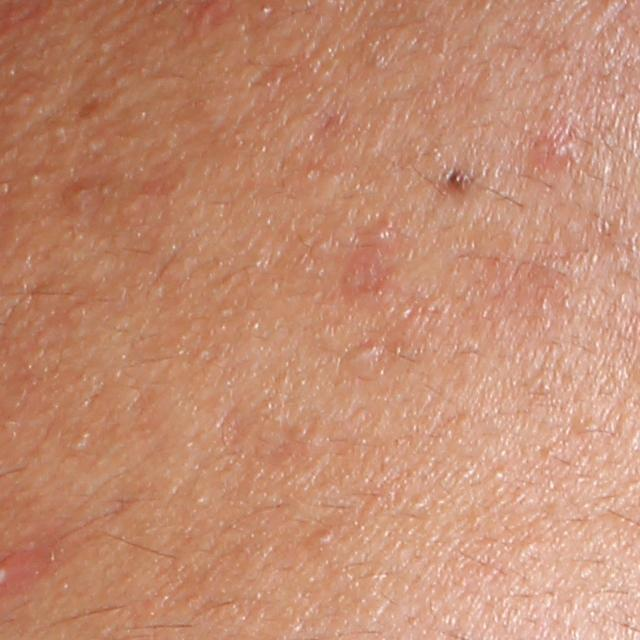comedo: (341, 339, 387, 371), (314, 528, 334, 543)
nevus: (426, 153, 504, 214)
papule: (61, 176, 102, 215), (532, 129, 574, 162)
